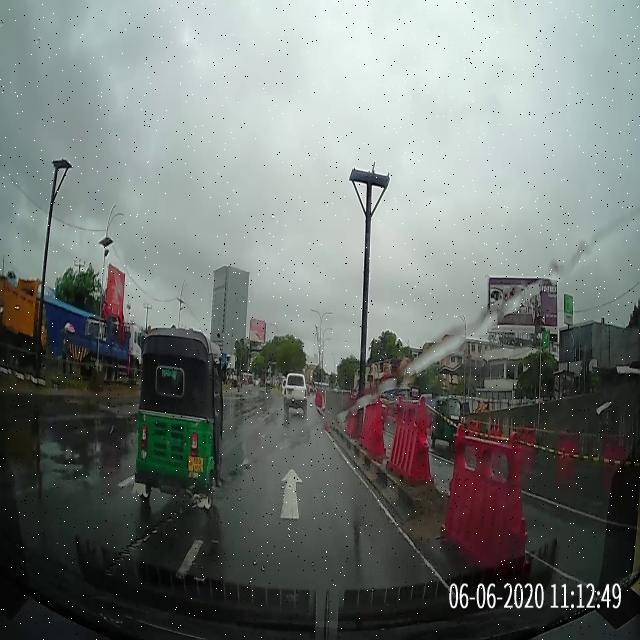forward: (210, 464, 402, 529)
